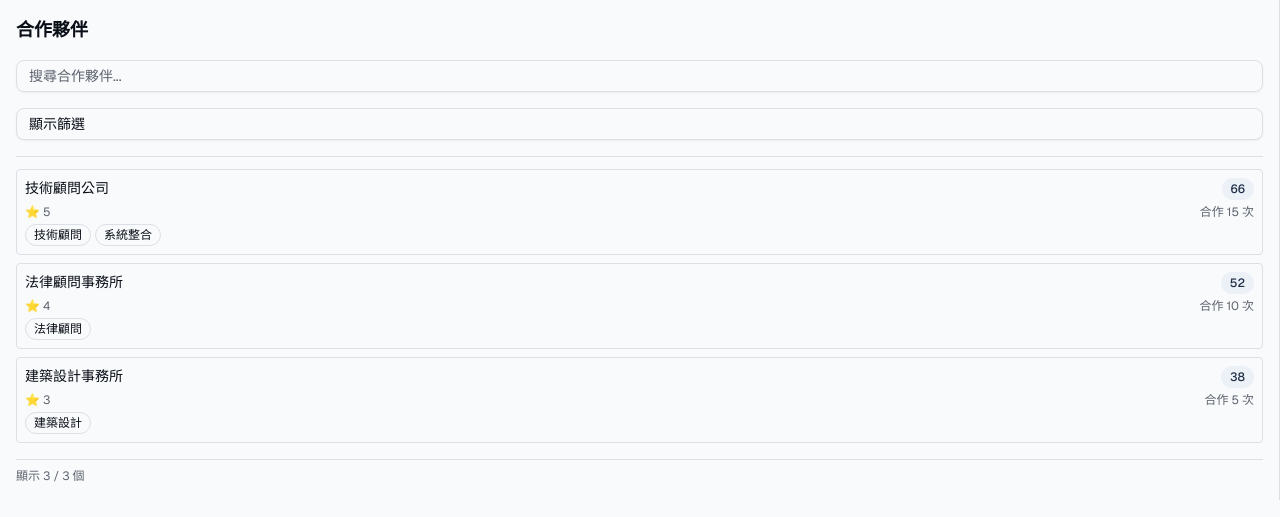
Scenario: PartnerSidebar › 應該搜尋合作夥伴名稱
This screenshot has width=1280, height=517.
In the field with placeholder "搜尋合作夥伴...": (640, 76) [16,60,1263,92], type "技術"
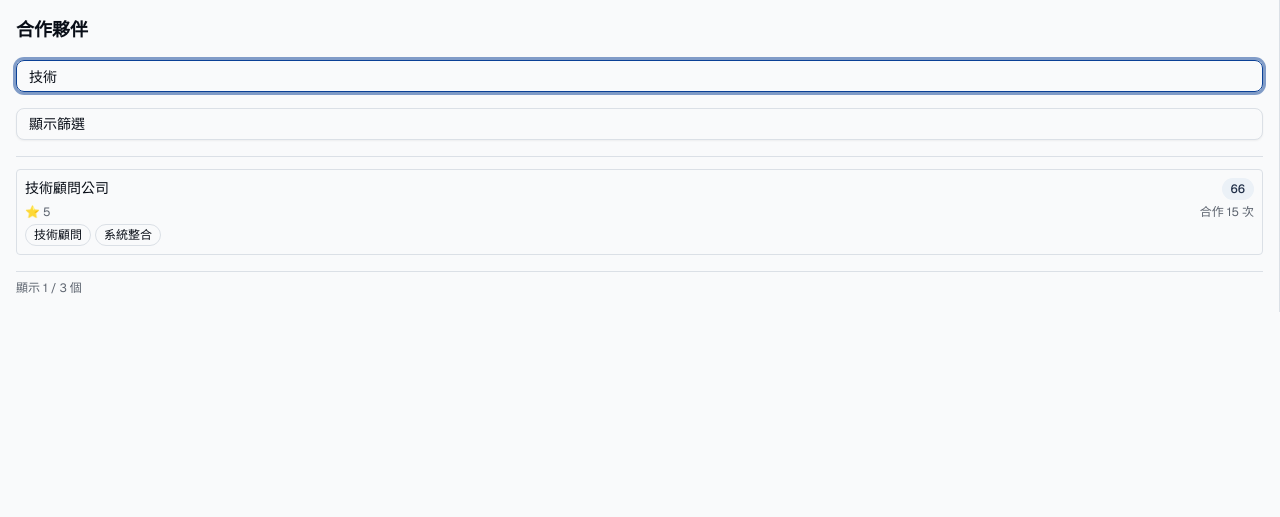
Expected: the text "技術顧問公司" is shown, [25,179,109,197]
Now the button "建築設計事務所" is gone
